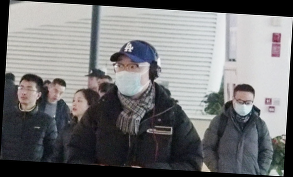with_mask: (112, 57, 150, 97), (234, 97, 254, 117)
without_mask: (16, 84, 36, 105), (71, 95, 89, 116), (47, 88, 65, 105)
